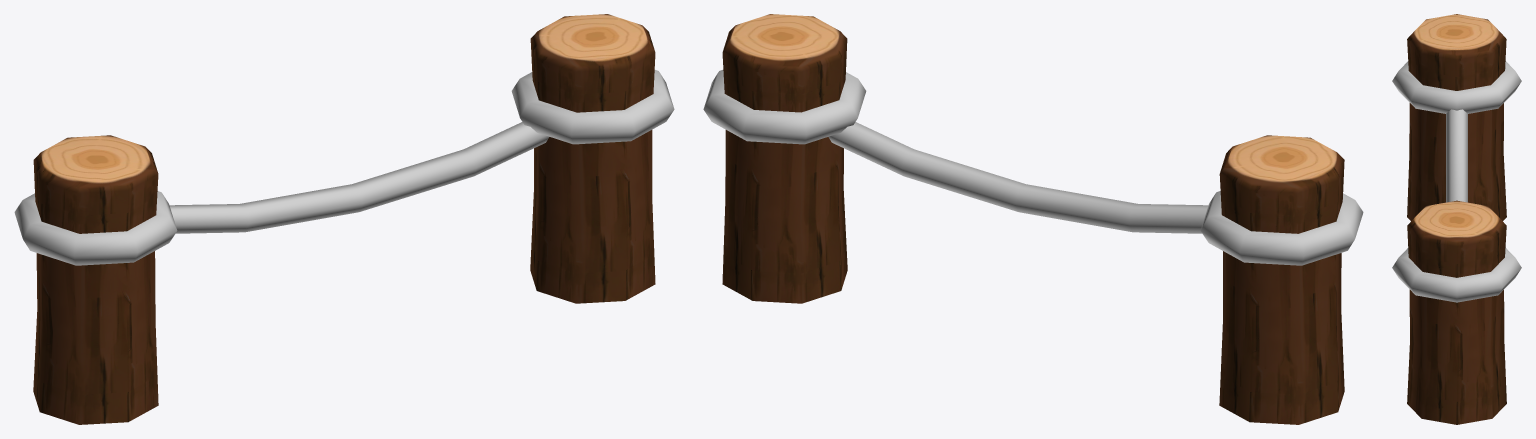
Rendered from fence_002.fbx.
The picture shows the model from 3 angles, left to right: view 1: azimuth 30°, elevation 25°; view 2: azimuth 150°, elevation 25°; view 3: azimuth 270°, elevation 25°; orthographic projection. The views are drawn at different scales.
Parts seen in each view (by area): view 1: fence_002; view 2: fence_002; view 3: fence_002.
Boxes of the visible parts, bbox=[...] form: fence_002: bbox=[14, 14, 674, 424]; fence_002: bbox=[703, 14, 1363, 424]; fence_002: bbox=[1392, 14, 1521, 424].
Bounding box in the file's own units: 261 × 59.18 × 92.92.
